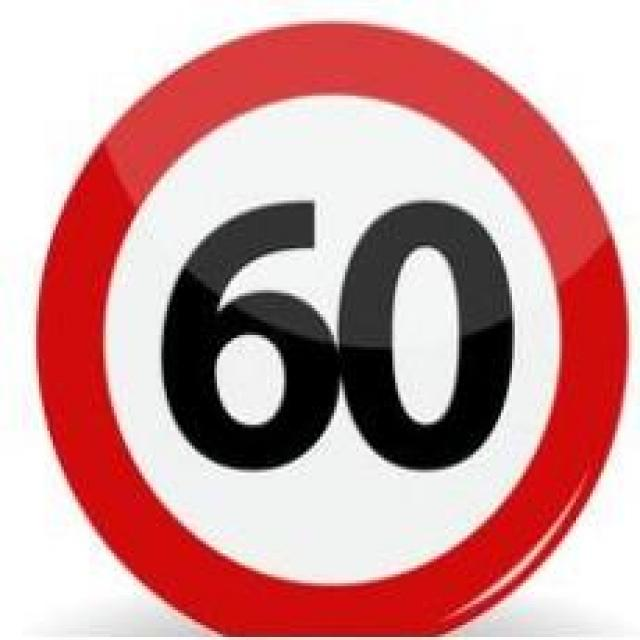speed_limit_60: (31, 21, 632, 637)
